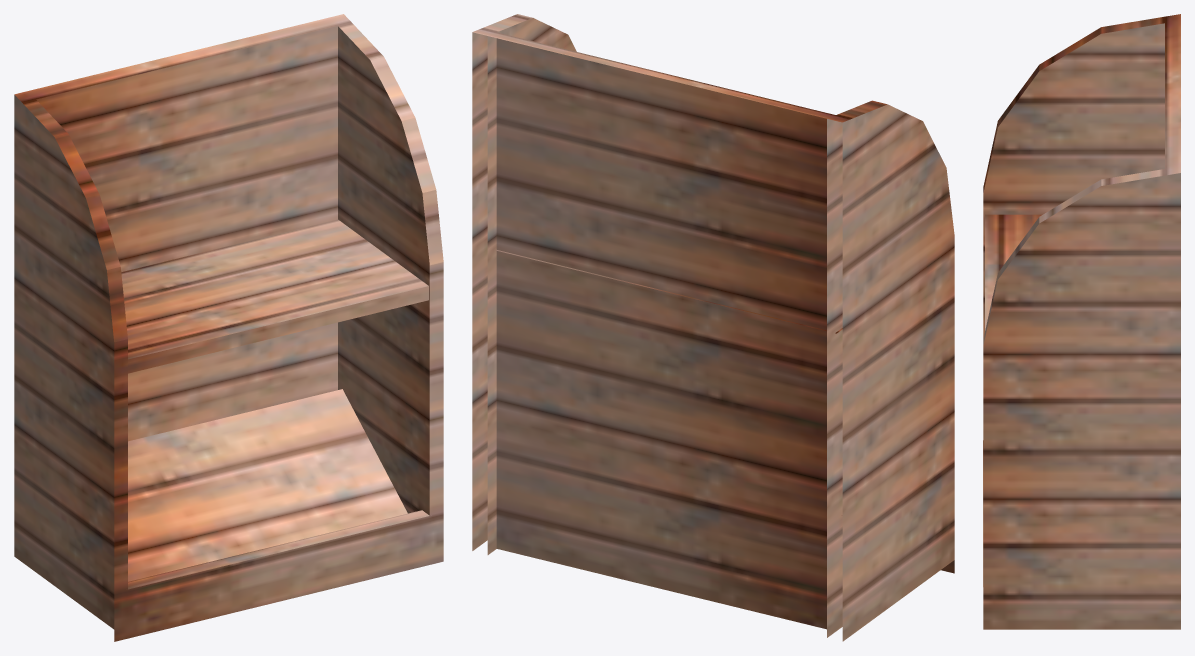
File: BreadShalf.fbx
3 views of the same model, side by side, from view 1: azimuth 30°, elevation 25°; view 2: azimuth 150°, elevation 25°; view 3: azimuth 270°, elevation 25° (orthographic). The views are drawn at different scales.
Parts seen in each view (by area): view 1: Shalf; view 2: Shalf; view 3: Shalf.
Boxes of the visible parts, x1,y1,x2,y2 form: Shalf: [14, 14, 443, 641]; Shalf: [472, 14, 954, 641]; Shalf: [983, 14, 1180, 629].
Bounding box in the file's own units: 178 × 244 × 93.42.
